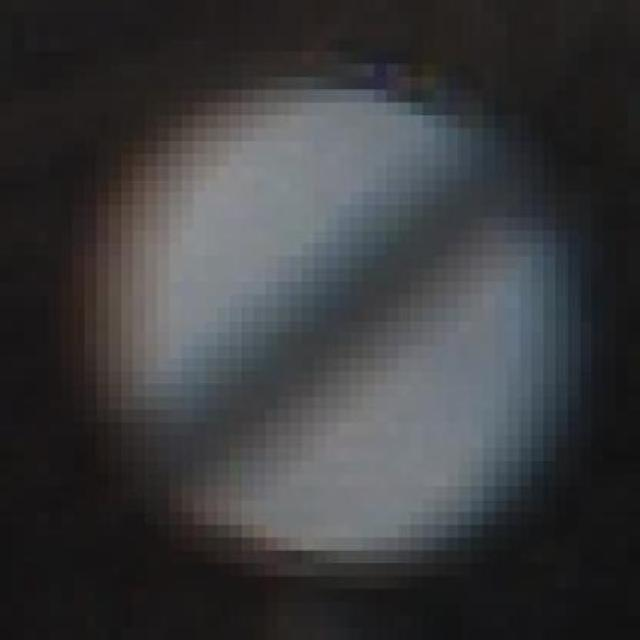End of all speed and passing limits: (60, 64, 592, 576)
